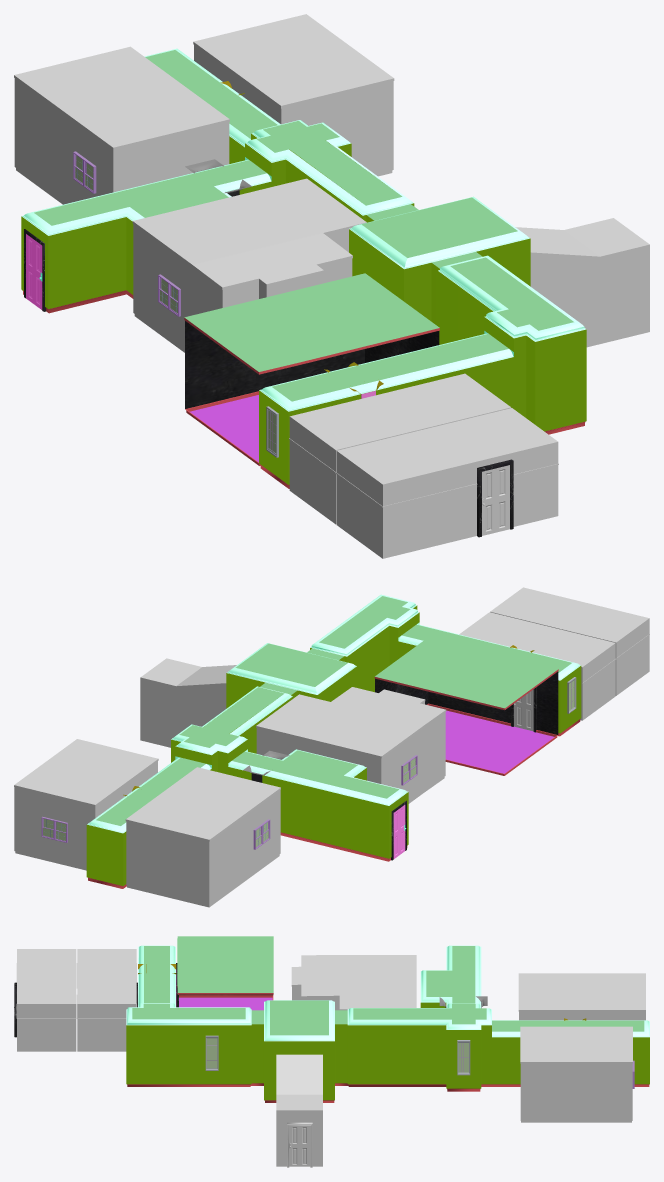
The model's file is Hallway.FBX.
3 views of the same model, one above another, from view 1: azimuth 30°, elevation 25°; view 2: azimuth 150°, elevation 25°; view 3: azimuth 270°, elevation 25° (orthographic). The views are drawn at different scales.
Visible parts, largest first — view 1: Hallway Middle Walls, Hallway Roof, Livingroom's Roof, Kitchen's Roof, Hallway Upper Walls, Parent's Bedroom Walls, Room, Parent's Bedroom Roof, Kid's Bedroom Roof, Mirror's Lower Walls, Bathroom's Floor, Mirror's Roof (+13 smaller); view 2: Hallway Middle Walls, Hallway Roof, Parent's Bedroom Walls, Livingroom's Roof, Kitchen's Roof, Hallway Upper Walls, Parent's Bedroom Roof, Room, Livingroom's Walls, Kid's Bedroom Roof, Kid's Bedroom Walls, Kitchen's Floor (+14 smaller); view 3: Hallway Middle Walls, Hallway Roof, Kid's Bedroom Walls, Livingroom's Roof, Hallway Upper Walls, Kitchen's Roof, Parent's Bedroom Roof, Room, Kid's Bedroom Roof, Bathroom's Floor, Mirror's Roof, Mirror's Lower Walls (+13 smaller).
Part boxes in pixels (box(x1,y1,x2,y2)): Hallway Middle Walls: box(21, 133, 586, 484); Hallway Roof: box(34, 50, 573, 401); Livingroom's Roof: box(133, 178, 366, 287); Kitchen's Roof: box(184, 273, 439, 371); Hallway Upper Walls: box(21, 48, 586, 411); Parent's Bedroom Walls: box(14, 78, 229, 203); Room: box(515, 218, 649, 347); Parent's Bedroom Roof: box(14, 46, 229, 147); Kid's Bedroom Roof: box(194, 14, 393, 105); Mirror's Lower Walls: box(336, 465, 558, 558); Bathroom's Floor: box(290, 373, 510, 449); Mirror's Roof: box(337, 408, 557, 484); Hallway Middle Walls: box(86, 605, 581, 885); Hallway Roof: box(96, 596, 571, 825); Parent's Bedroom Walls: box(126, 790, 280, 905); Livingroom's Roof: box(256, 687, 445, 756); Kitchen's Roof: box(375, 637, 558, 708); Hallway Upper Walls: box(87, 594, 580, 833); Parent's Bedroom Roof: box(126, 767, 280, 839); Room: box(140, 658, 236, 747); Livingroom's Walls: box(256, 702, 445, 801); Kid's Bedroom Roof: box(14, 739, 157, 804); Kid's Bedroom Walls: box(14, 761, 157, 868); Kitchen's Floor: box(445, 710, 554, 773); Hallway Middle Walls: box(126, 1002, 649, 1100); Hallway Roof: box(132, 946, 644, 1035); Kid's Bedroom Walls: box(520, 1063, 632, 1120); Livingroom's Roof: box(291, 955, 416, 1009); Hallway Upper Walls: box(126, 945, 649, 1041); Kitchen's Roof: box(177, 936, 273, 992); Parent's Bedroom Roof: box(518, 973, 645, 1009); Room: box(276, 1054, 322, 1166); Kid's Bedroom Roof: box(520, 1026, 632, 1061); Bathroom's Floor: box(77, 949, 136, 1003); Mirror's Roof: box(17, 949, 76, 1003); Mirror's Lower Walls: box(17, 1019, 76, 1051).
Bounding box in the file's own units: 203 × 56.74 × 366.
